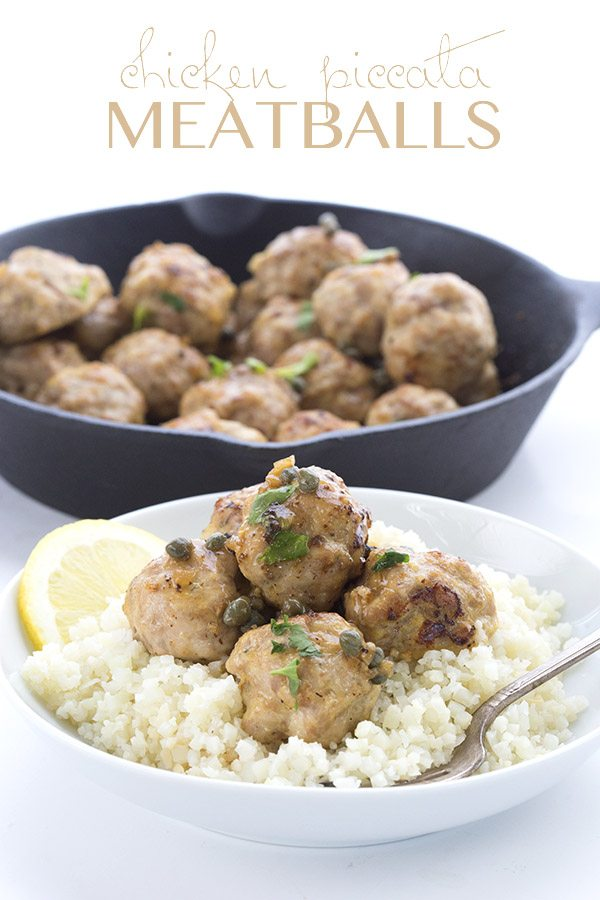meatballs: (4, 246, 503, 424), (241, 461, 365, 599), (232, 619, 378, 730), (351, 543, 484, 646), (132, 547, 249, 647)
plain rice: (20, 620, 240, 773), (376, 641, 590, 785)
